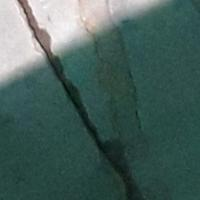crack: (15, 0, 134, 199)
